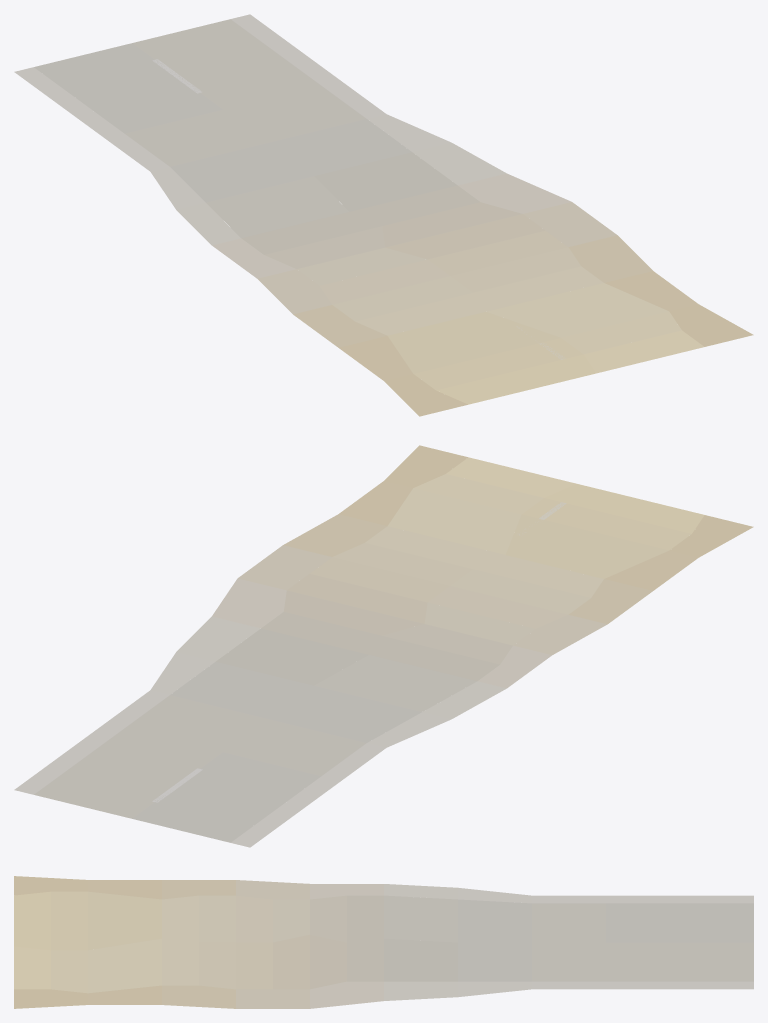
The model's file is mixnd.glb.
The picture shows the model from 3 angles, top to bottom: view 1: azimuth 30°, elevation 25°; view 2: azimuth 150°, elevation 25°; view 3: azimuth 270°, elevation 25°; orthographic projection. The views are drawn at different scales.
Parts seen in each view (by area): view 1: mixnd; view 2: mixnd; view 3: mixnd.
Boxes of the visible parts, x1=… form: mixnd: x1=14, y1=14, x2=753, y2=416; mixnd: x1=14, y1=445, x2=753, y2=847; mixnd: x1=14, y1=876, x2=753, y2=1008.
Bounding box in the file's own units: 23.8 × 0 × 56.
